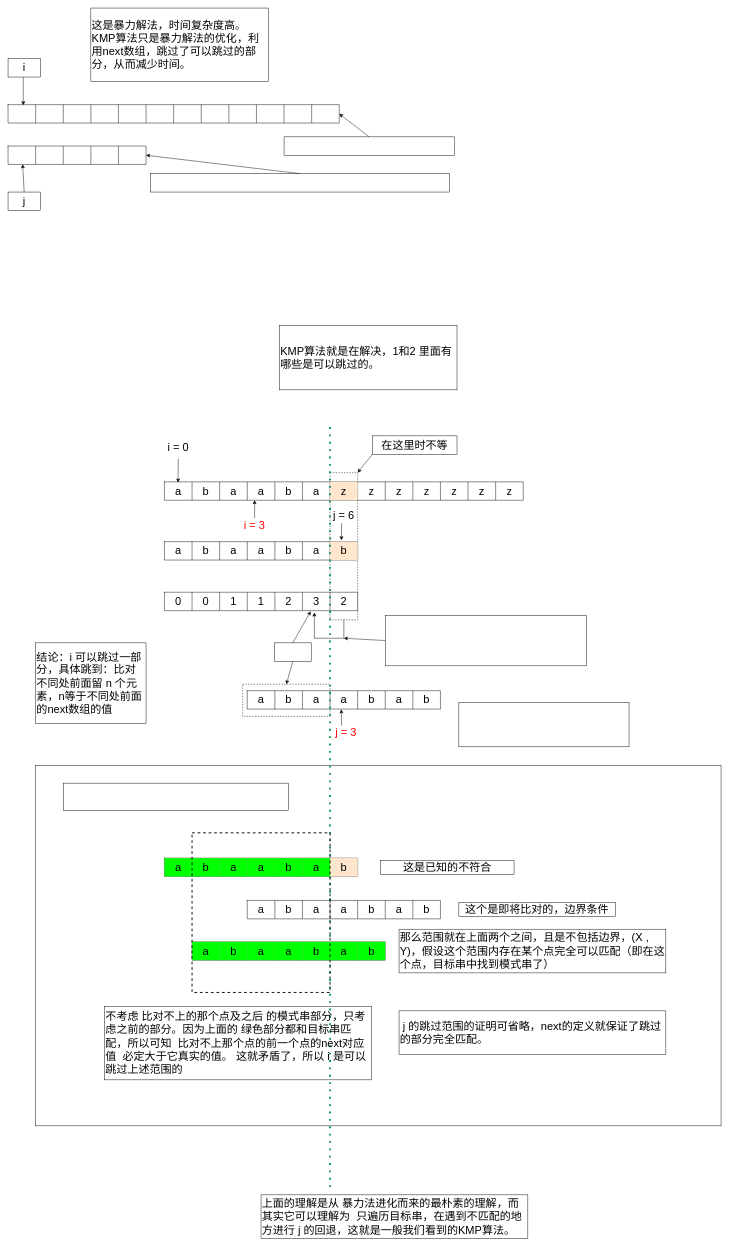
Some shapes in this 729 by 1247 pixel diagram are drawn without their labels. The centre of each missing label's shape, as x and y in pixels:
1. 先是对 目标串 每个字符遍历: (x=369, y=145)
2. 对于每个目标串的字符，模式串都会把自己整个遍历一次: (x=300, y=182)
3个: (x=292, y=651)
为什么 i 和 j 能跳过这么多？下面来证明，使用 反证法: (x=176, y=797)
寻找不等的那个项的前一个next数组的对应值，当然这里 j > 0。（当 j == 0时的情况，另外考虑）: (x=486, y=640)
结论：类似的，j也不需要从0开始对比，由next数组的定义，可以跳过隔开的 n 个: (x=543, y=724)
